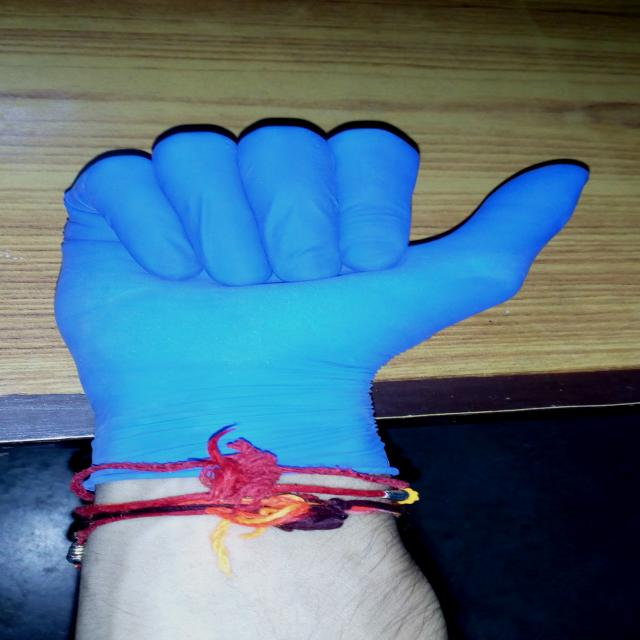glove: (47, 118, 598, 484)
